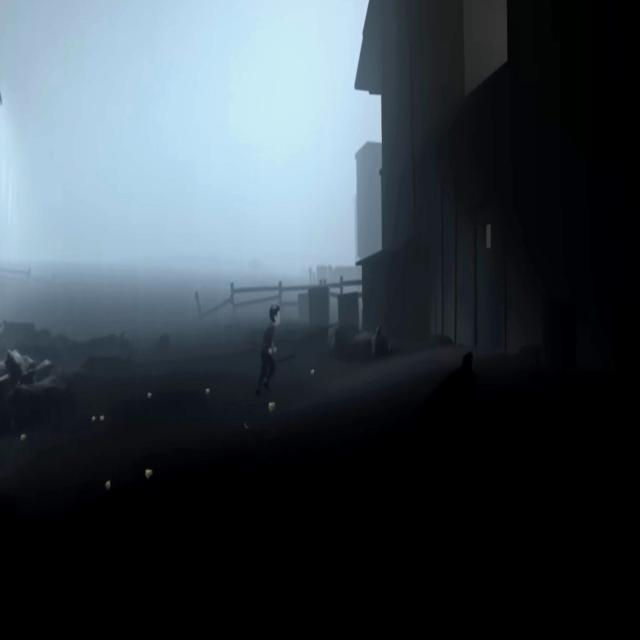boy: (256, 305, 280, 396)
